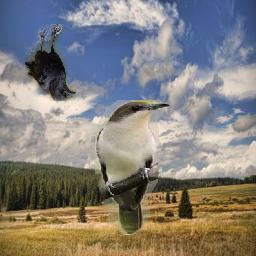Crow: (26, 25, 77, 102)
Cuckoo: (96, 101, 171, 236)
